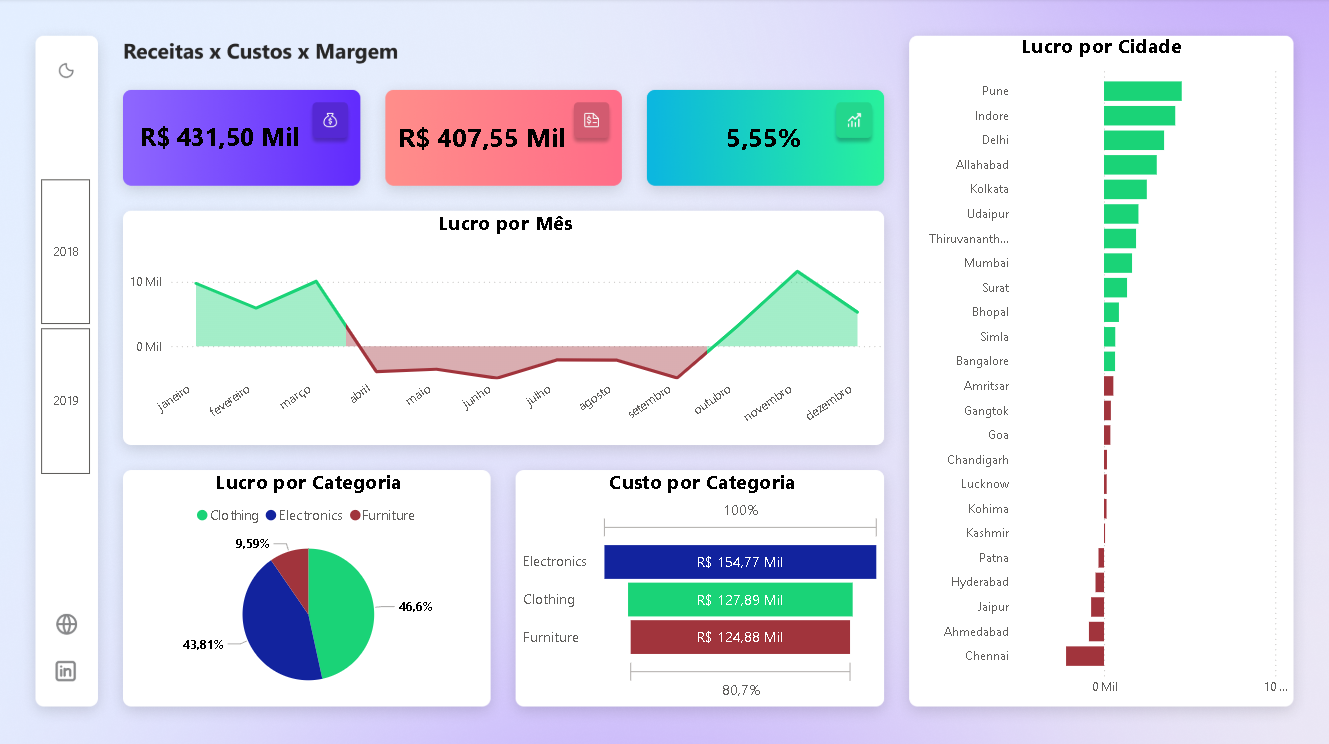

The page's visual inventory and layout, read from the dashboard file:
{"tool":"powerbi","page":{"name":"Página 1","canvas":[1280,720],"ordinal":0},"visuals":[{"type":"card","title":"Receita","fields":{"Values":["Medidas.Receita"]},"box":[97.3,83.6,231.5,101.2],"z":0},{"type":"card","title":"Custo","fields":{"Values":["Medidas.Custo"]},"box":[348.2,83.6,230.5,101.2],"z":1},{"type":"card","fields":{"Values":["Medidas.Margem %"]},"box":[617.6,83.6,235.4,101.2],"z":2},{"type":"areaChart","fields":{"Category":["projeto_vendas_1 pedidos.Data Pedido.Variation.Hierarquia de datas.Mês"],"Y":["Medidas.Lucro"]},"box":[119.6,202.3,733.4,227.6],"z":3},{"type":"pieChart","fields":{"Category":["projeto_vendas_1 detalhes_pedidos.Categoria"],"Y":["Medidas.Lucro"]},"box":[119.6,451.3,356,227.6],"z":4},{"type":"clusteredBarChart","fields":{"Category":["projeto_vendas_1 pedidos.Cidade"],"Y":["Medidas.Lucro"]},"box":[873.8,32.6,370.7,646.2],"z":5},{"type":"slicer","fields":{"Values":["projeto_vendas_1 pedidos.Data Pedido.Variation.Hierarquia de datas.Ano"]},"box":[15.6,167.3,97.3,296.7],"z":6},{"type":"funnel","fields":{"Y":["Medidas.Custo"],"Category":["projeto_vendas_1 detalhes_pedidos.Categoria"]},"box":[499,451.3,354,227.6],"z":7}]}

Visuals, with their boxes on the page's 1280x720 design canvas (x1, y1, x2, y2). These are canvas units, not pixel positions in the 1329x744 screenshot, which may show the page scaled, cropped or inside an application window:
"Receita" card: region(97, 84, 329, 185)
"Custo" card: region(348, 84, 579, 185)
card - Medidas.Margem %: region(618, 84, 853, 185)
areaChart - projeto_vendas_1 pedidos.Data Pedido.Variation.Hierarquia de datas.Mês x Medidas.Lucro: region(120, 202, 853, 430)
pieChart - projeto_vendas_1 detalhes_pedidos.Categoria x Medidas.Lucro: region(120, 451, 476, 679)
clusteredBarChart - projeto_vendas_1 pedidos.Cidade x Medidas.Lucro: region(874, 33, 1244, 679)
slicer - projeto_vendas_1 pedidos.Data Pedido.Variation.Hierarquia de datas.Ano: region(16, 167, 113, 464)
funnel - Medidas.Custo x projeto_vendas_1 detalhes_pedidos.Categoria: region(499, 451, 853, 679)
